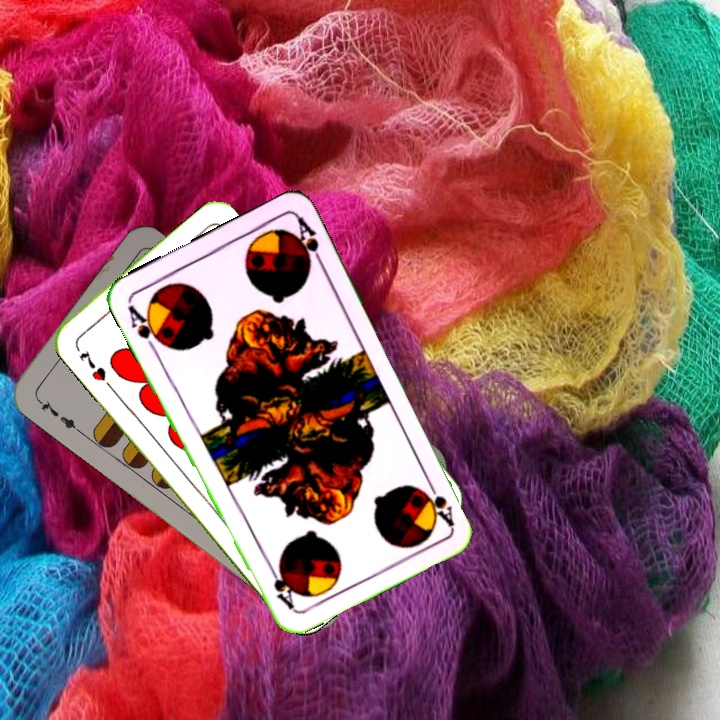E7: (33, 394, 83, 436)
H7: (75, 346, 109, 384)
SA: (123, 301, 167, 354), (420, 473, 457, 529)
